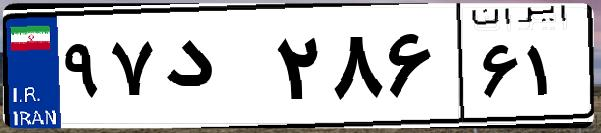1: (525, 38, 570, 115)
2: (270, 28, 330, 110)
6: (385, 28, 445, 110), (475, 38, 525, 113)
7: (110, 28, 158, 98)
8: (330, 28, 385, 110)
9: (57, 26, 110, 100)
د: (158, 20, 270, 120)
